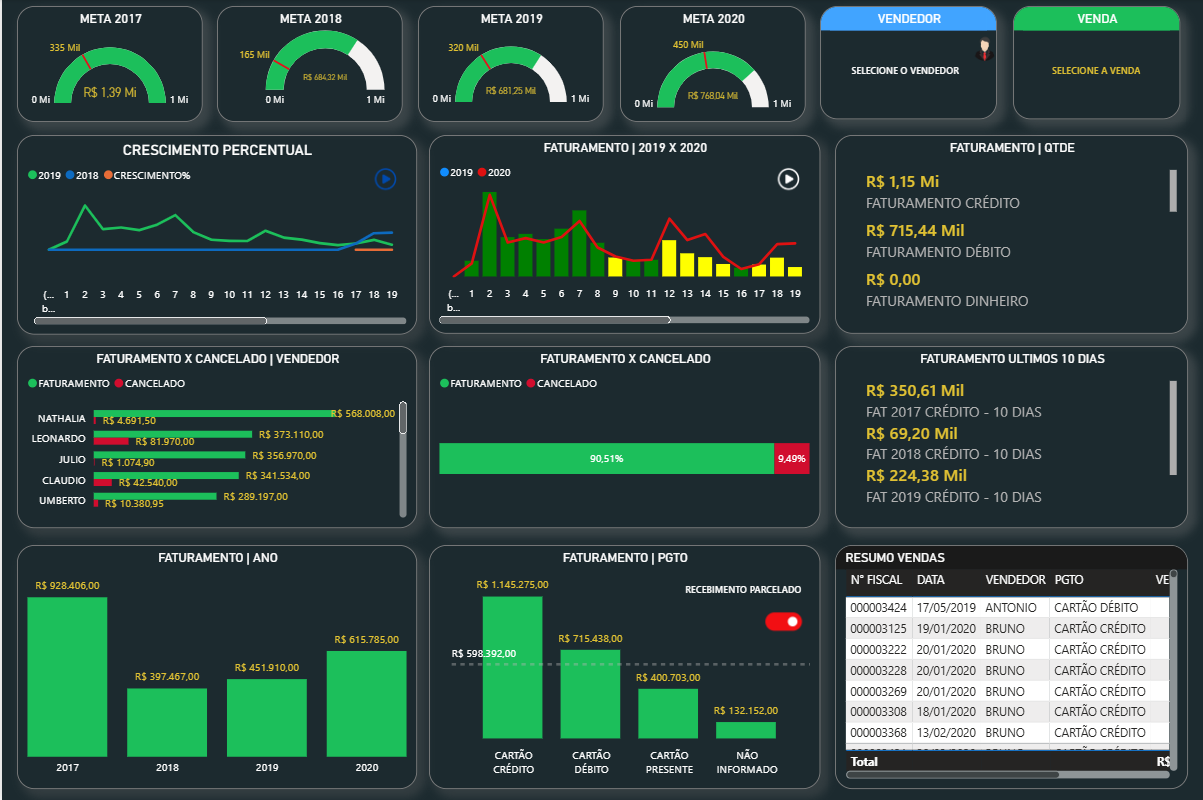

This screenshot's page, from the dashboard's own definition file:
{"tool":"powerbi","page":{"name":"RELATORIO_VENDAS","canvas":[1380,920],"ordinal":1},"visuals":[{"type":"columnChart","title":"FATURAMENTO | ANO","fields":{"Y":["MEDIDAS.FATURAMENTO_TOTAL"],"Category":["CALENDARIO.DATA.Variation.Hierarquia de datas.Ano","CALENDARIO.DATA.Variation.Hierarquia de datas.Mês"]},"box":[17.2,626.3,458.9,279.9],"z":0},{"type":"clusteredBarChart","title":"FATURAMENTO X CANCELADO | VENDEDOR","fields":{"Category":["CONSOLIDADA.VENDEDOR"],"Y":["MEDIDAS.FATURAMENTO_TOTAL","MEDIDAS.VALOR_CANCELADO"]},"box":[17.2,398.1,458.9,208.8],"z":1000},{"type":"clusteredColumnChart","title":"FATURAMENTO | PGTO","fields":{"Category":["CONSOLIDADA.FORMA_PGTO"],"Y":["MEDIDAS.FATURAMENTO_TOTAL"]},"box":[489.8,626.3,448.5,279.9],"z":2000},{"type":"hundredPercentStackedBarChart","title":"FATURAMENTO X CANCELADO","fields":{"Y":["MEDIDAS.FATURAMENTO_TOTAL","MEDIDAS.VALOR_CANCELADO"]},"box":[489.8,398.1,448.5,208.8],"z":3000},{"type":"advancedtoggleswitch","fields":{"Category":["CONSOLIDADA.RECEBIMENTO"]},"box":[870.7,683.7,51.6,45.9],"z":4000},{"type":"cardVisual","fields":{"Data":["MEDIDAS.TEXTO_TOGGLE"]},"box":[754.8,652.7,192.7,47],"z":5000},{"type":"tableEx","title":"RESUMO VENDAS","fields":{"Values":["CONSOLIDADA.N° FISCAL","CALENDARIO.DATA","CONSOLIDADA.VENDEDOR","CONSOLIDADA.FORMA_PGTO","MEDIDAS.FATURAMENTO_TOTAL","MEDIDAS.VALOR_CANCELADO"]},"box":[955.6,626.3,404.9,279.9],"z":6000},{"type":"lineStackedColumnComboChart","title":"FATURAMENTO | 2017 X 2018","fields":{"Y":["MEDIDAS.FAT_17"],"Y2":["MEDIDAS.FAT_18"],"Category":["CALENDARIO.DATA.Variation.Hierarquia de datas.Dia"]},"box":[17.2,156,458.9,229.4],"z":7000},{"type":"lineStackedColumnComboChart","title":"FATURAMENTO | 2019 X 2020","fields":{"Category":["CALENDARIO.DATA.Variation.Hierarquia de datas.Dia"],"Y":["MEDIDAS.FAT_19"],"Y2":["MEDIDAS.FAT_20"]},"box":[489.8,156,448.5,228.3],"z":8000},{"type":"image","title":"BT_BARRAS","box":[408.2,190.5,67.4,37.6],"z":10000},{"type":"image","title":"BT_BARRAS_2","box":[870.8,190.5,67.4,37.6],"z":13000},{"type":"gauge","title":"META 2017","fields":{"Y":["MEDIDAS.FAT_17"],"MinValue":["MEDIDAS.MINIMO"],"MaxValue":["MEDIDAS.MAXIMO"],"TargetValue":["MEDIDAS.META 2017"]},"box":[17.2,8,213.4,133.1],"z":15000},{"type":"gauge","title":"META 2018","fields":{"Y":["MEDIDAS.FAT_18"],"MinValue":["MEDIDAS.MINIMO"],"MaxValue":["MEDIDAS.MAXIMO"],"TargetValue":["MEDIDAS.META 2018"]},"box":[246.6,8,213.4,133.1],"z":16000},{"type":"gauge","title":"META 2019","fields":{"MinValue":["MEDIDAS.MINIMO"],"MaxValue":["MEDIDAS.MAXIMO"],"Y":["MEDIDAS.FAT_19"],"TargetValue":["MEDIDAS.META 2019"]},"box":[477.2,8,213.4,133.1],"z":17000},{"type":"gauge","title":"META 2020","fields":{"MinValue":["MEDIDAS.MINIMO"],"MaxValue":["MEDIDAS.MAXIMO"],"Y":["MEDIDAS.FAT_20"],"TargetValue":["MEDIDAS.META 2020"]},"box":[708.9,8,213.4,133.1],"z":18000},{"type":"cardVisual","title":"FATURAMENTO | QTDE","fields":{"Data":["FORMAS PGTO.FAT_CRED","FORMAS PGTO.FAT_DEB","FORMAS PGTO.FAT_DIN","FORMAS PGTO.FAT_CAR_PRE","FORMAS PGTO.FAT_NÃO INFO","FORMAS PGTO.QTD_CRED","FORMAS PGTO.QTDE_DEB","FORMAS PGTO.QTDE_DIN","FORMAS PGTO.QTDE_PRESENTE","FORMAS PGTO.QTDE NÃO INFO"]},"box":[955.6,156,404.9,228.3],"z":19000},{"type":"cardVisual","title":"FATURAMENTO ULTIMOS 10 DIAS","fields":{"Data":["FORMAS PGTO.FAT_CRED_17","FORMAS PGTO.FAT_CRED_18","FORMAS PGTO.FAT_CRED_19","FORMAS PGTO.FAT_CRED_20"]},"box":[955.6,398.1,404.9,208.8],"z":20000},{"type":"cardVisual","title":"VENDEDOR","fields":{"Data":["VENDEDOR.FILTRO_VENDEDOR"]},"box":[938.4,8,203,129.6],"z":21000},{"type":"image","box":[1099,39,60.8,35.6],"z":22000},{"type":"cardVisual","title":"VENDA","fields":{"Data":["VENDEDOR.FILTRO VENDA"]},"box":[1159.8,8,191.6,129.6],"z":23000}]}

Visuals, with their boxes in screenshot pixels (x1, y1, x2, y2), scaled from the page's 1380x920 canvas onto the 1203x800 screenshot:
"FATURAMENTO | ANO" columnChart: box(15, 545, 415, 788)
"FATURAMENTO X CANCELADO | VENDEDOR" clusteredBarChart: box(15, 346, 415, 528)
"FATURAMENTO | PGTO" clusteredColumnChart: box(427, 545, 818, 788)
"FATURAMENTO X CANCELADO" hundredPercentStackedBarChart: box(427, 346, 818, 528)
advancedtoggleswitch - CONSOLIDADA.RECEBIMENTO: box(759, 595, 804, 634)
cardVisual - MEDIDAS.TEXTO_TOGGLE: box(658, 568, 826, 608)
"RESUMO VENDAS" tableEx: box(833, 545, 1186, 788)
"FATURAMENTO | 2017 X 2018" lineStackedColumnComboChart: box(15, 136, 415, 335)
"FATURAMENTO | 2019 X 2020" lineStackedColumnComboChart: box(427, 136, 818, 334)
"BT_BARRAS" image: box(356, 166, 415, 198)
"BT_BARRAS_2" image: box(759, 166, 818, 198)
"META 2017" gauge: box(15, 7, 201, 123)
"META 2018" gauge: box(215, 7, 401, 123)
"META 2019" gauge: box(416, 7, 602, 123)
"META 2020" gauge: box(618, 7, 804, 123)
"FATURAMENTO | QTDE" cardVisual: box(833, 136, 1186, 334)
"FATURAMENTO ULTIMOS 10 DIAS" cardVisual: box(833, 346, 1186, 528)
"VENDEDOR" cardVisual: box(818, 7, 995, 120)
image: box(958, 34, 1011, 65)
"VENDA" cardVisual: box(1011, 7, 1178, 120)
